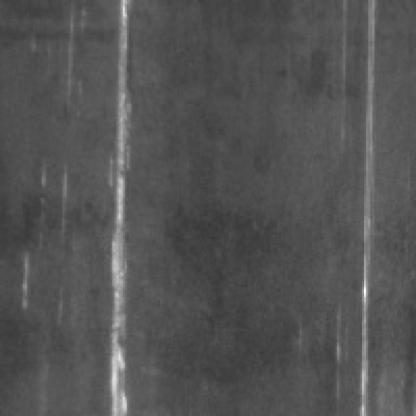scratches: (104, 2, 142, 416), (357, 2, 385, 416)
